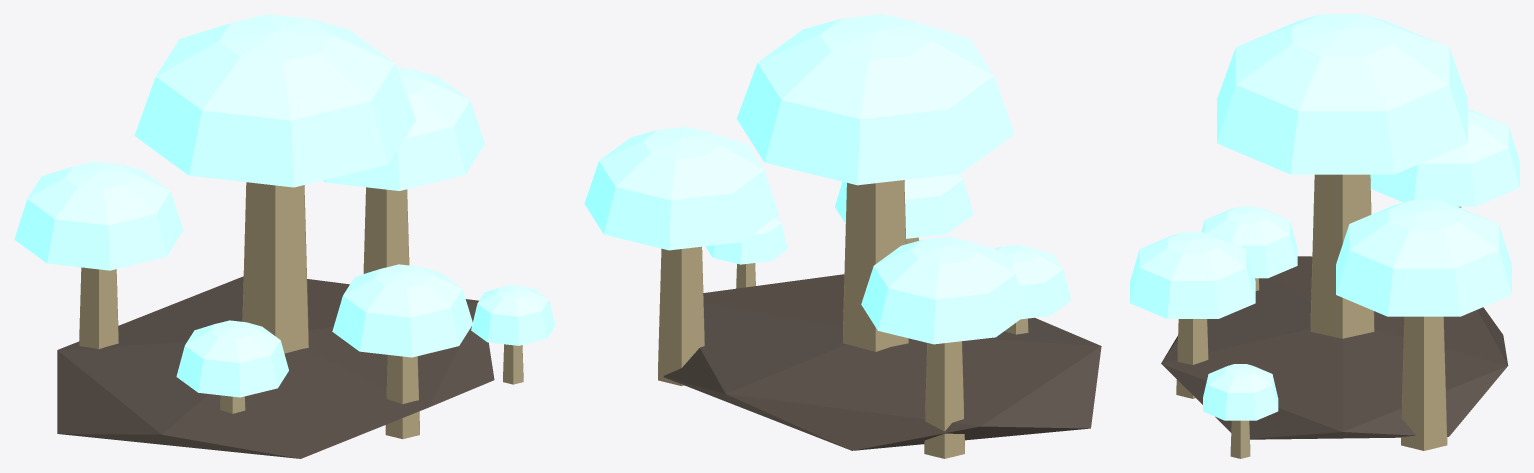
The model's file is mine_mushrooms_glow.fbx.
3 renders of one model, left to right at view 1: azimuth 30°, elevation 25°; view 2: azimuth 150°, elevation 25°; view 3: azimuth 270°, elevation 25°, orthographic. The views are drawn at different scales.
Visible parts, largest first — view 1: mine_mushrooms_glow; view 2: mine_mushrooms_glow; view 3: mine_mushrooms_glow.
Part boxes in pixels (x1,y1,x2,y2): mine_mushrooms_glow: [14, 14, 555, 458]; mine_mushrooms_glow: [584, 14, 1101, 458]; mine_mushrooms_glow: [1130, 14, 1519, 458].
Size of the model in its own units: 0.7335 by 0.55 by 0.5733.
